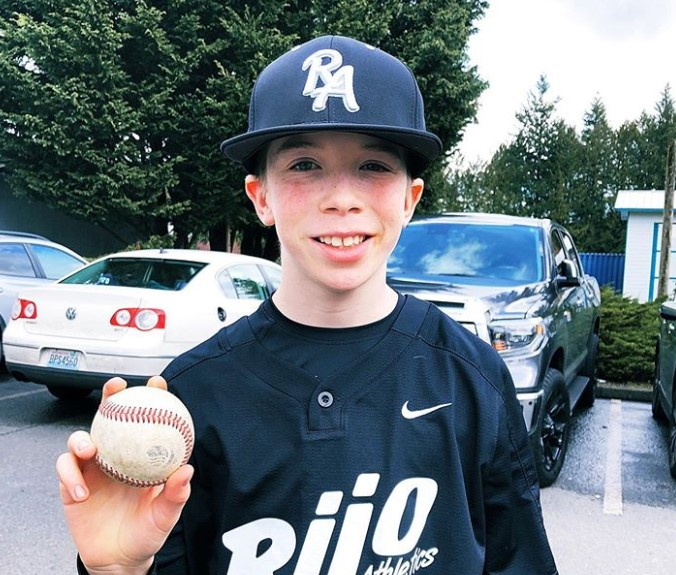face_no_mask: (254, 92, 407, 293)
